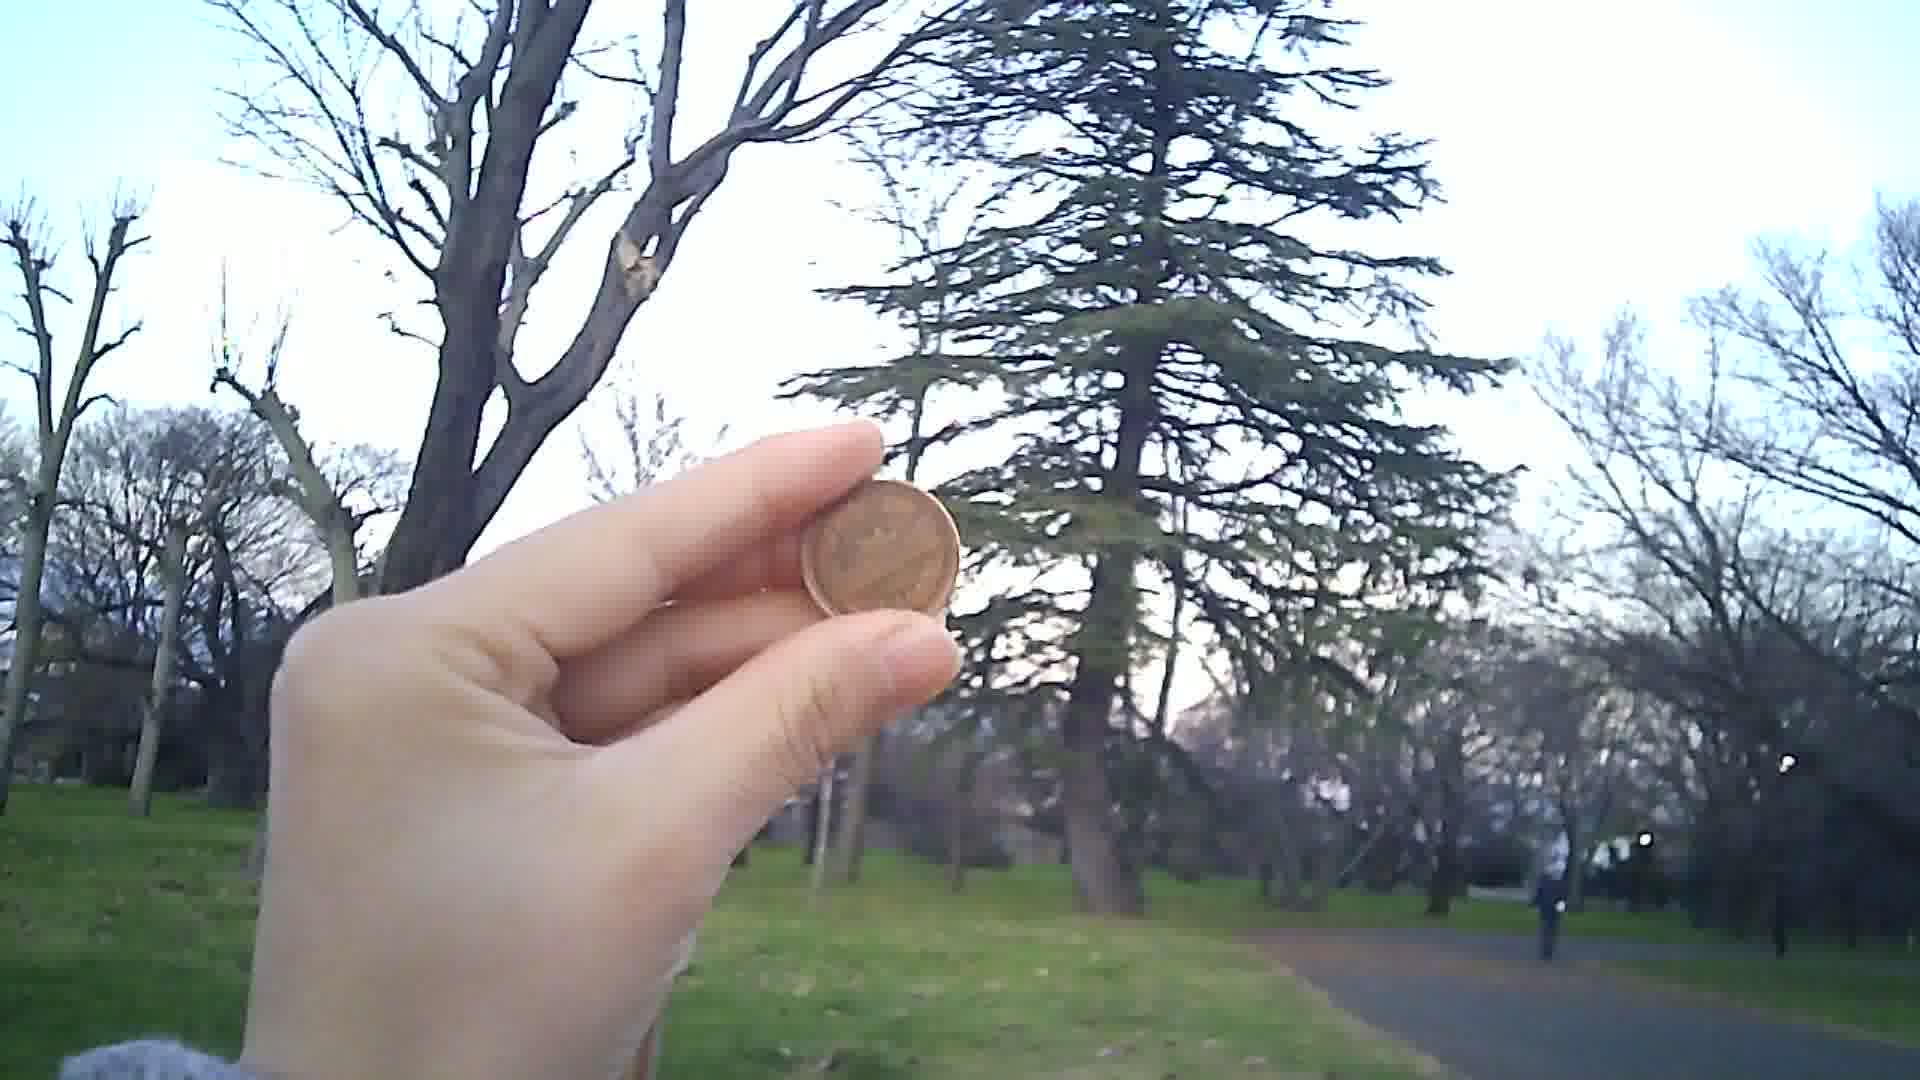10 Yen: (793, 471, 957, 624)
